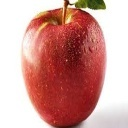apple: (20, 1, 108, 128)
